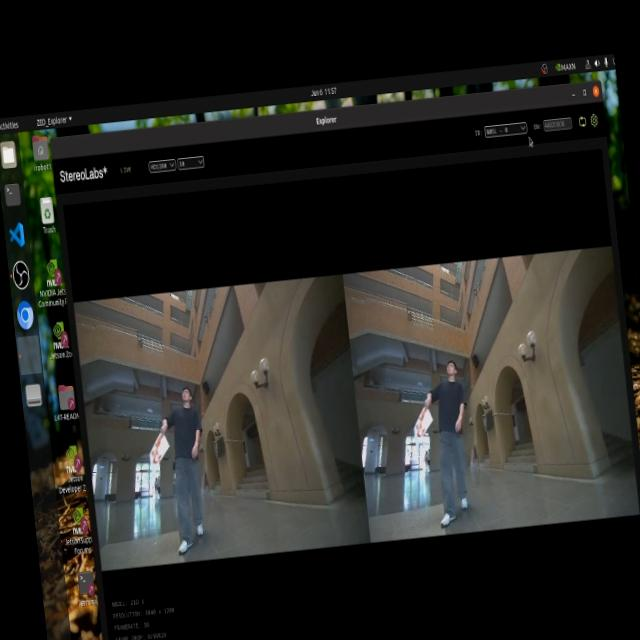red: (144, 430, 170, 470), (412, 407, 429, 438)
